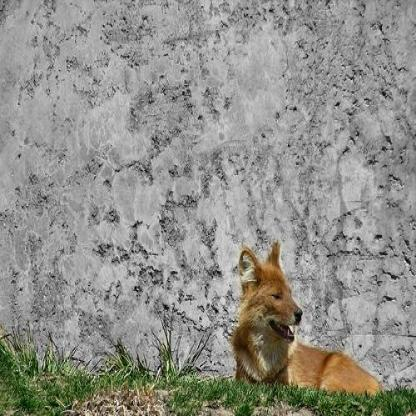dhole: (229, 236, 382, 400)
